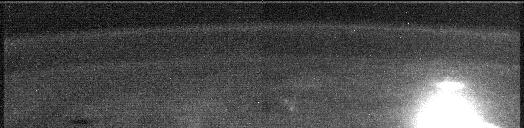negative: (432, 80, 465, 95)
